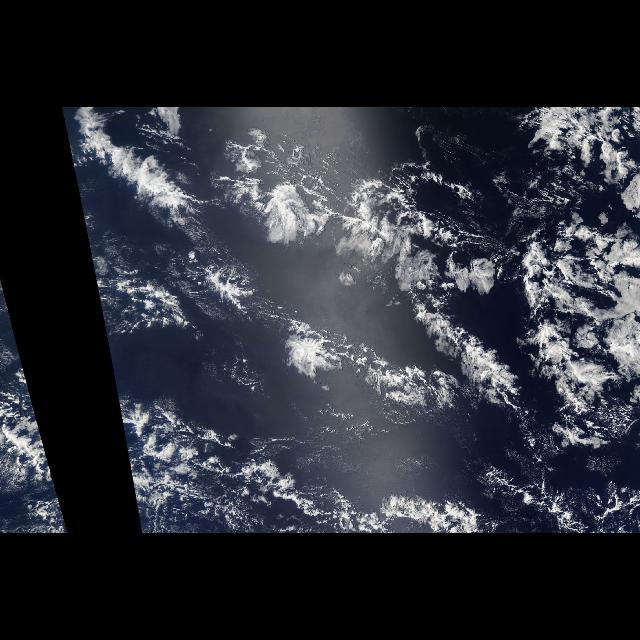Fish: (76, 110, 572, 443)
